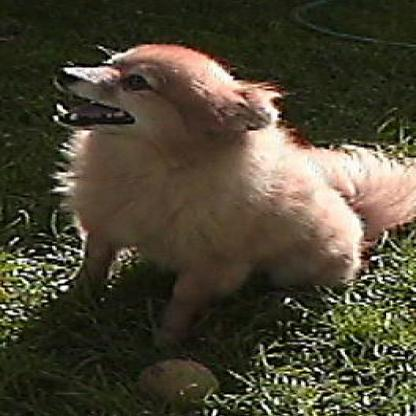Pomeranian: (53, 42, 413, 349)
